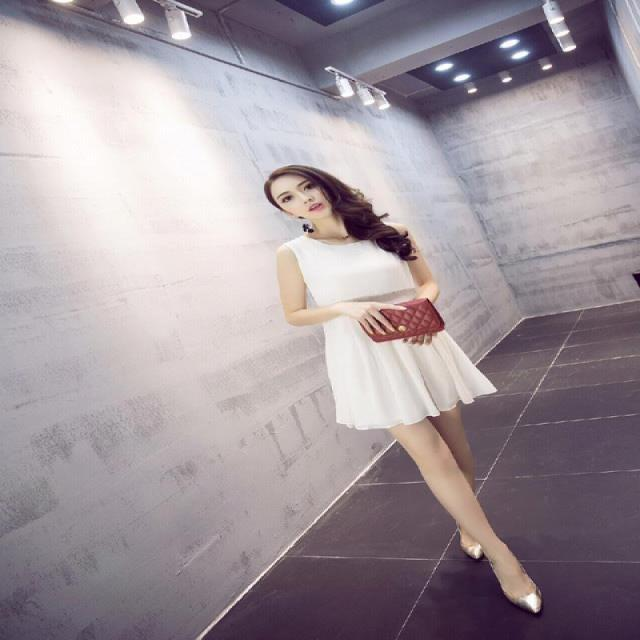vest dress: (285, 223, 496, 423)
